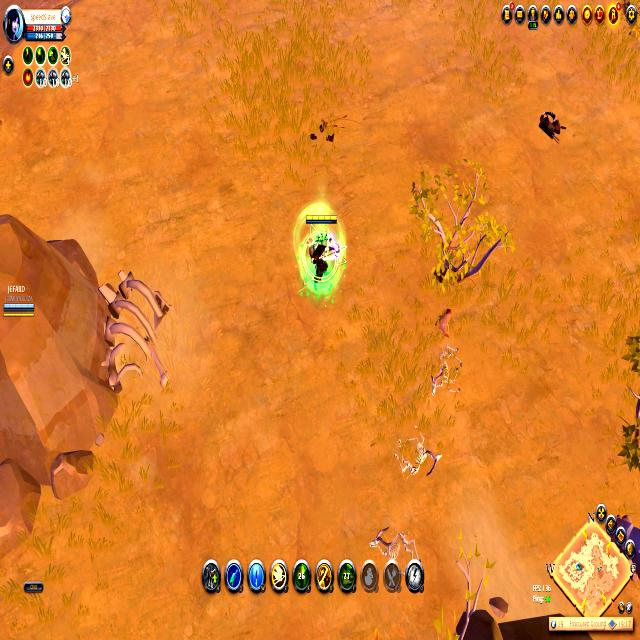red: (303, 210, 338, 288), (1, 297, 36, 317)
